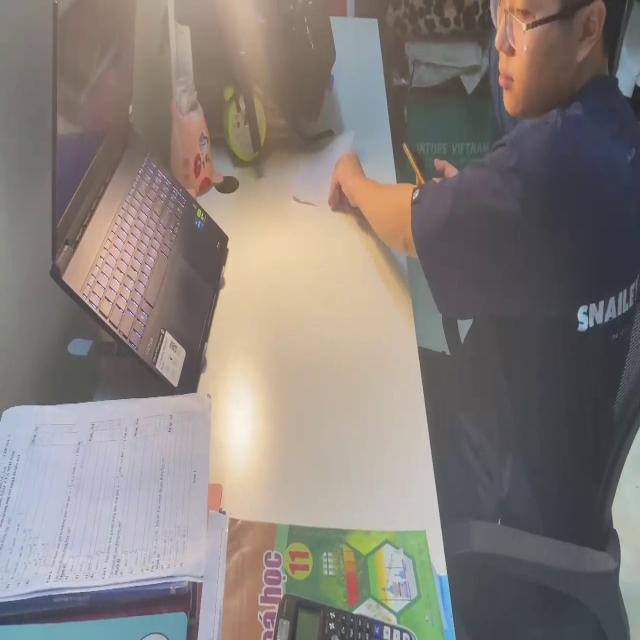book: (0, 401, 223, 640), (223, 517, 447, 640), (296, 124, 354, 208)
laptop: (44, 0, 231, 394)
phone: (405, 138, 439, 200)
student: (329, 0, 640, 542)
